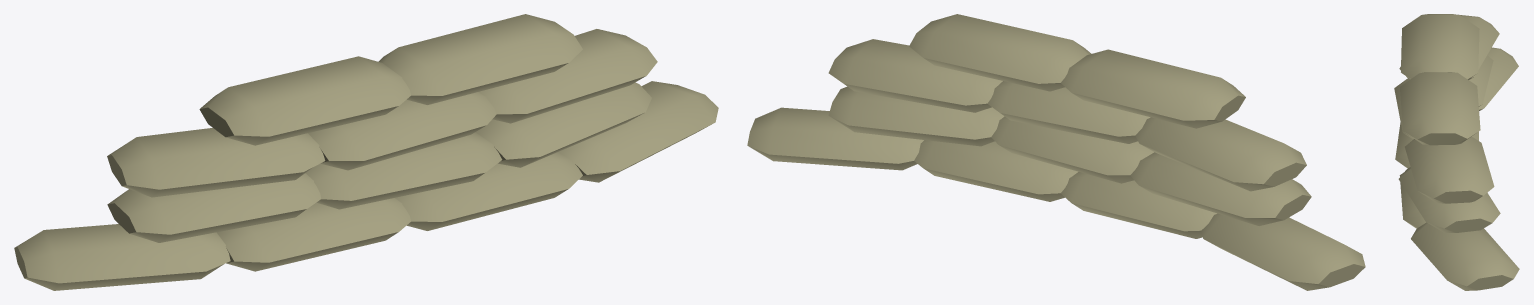
File: sandbags.glb
The picture shows the model from 3 angles, left to right: view 1: azimuth 30°, elevation 25°; view 2: azimuth 150°, elevation 25°; view 3: azimuth 270°, elevation 25°; orthographic projection. The views are drawn at different scales.
Visible parts, largest first — view 1: bags; view 2: bags; view 3: bags.
Part boxes in pixels (left/top/right/bottom): bags: left=14, top=14, right=718, bottom=290; bags: left=747, top=14, right=1365, bottom=290; bags: left=1394, top=14, right=1519, bottom=290.
Size of the model in its own units: 2.24 by 0.5078 by 0.5023.
